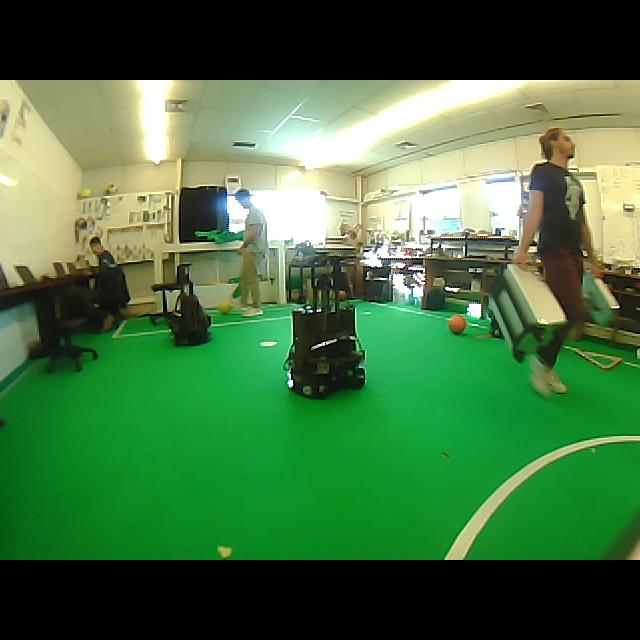ball: (448, 315, 466, 333), (218, 301, 231, 314), (78, 188, 91, 199), (105, 184, 118, 194)
goal: (276, 244, 288, 305)
robot: (284, 258, 365, 397), (168, 265, 211, 345)
